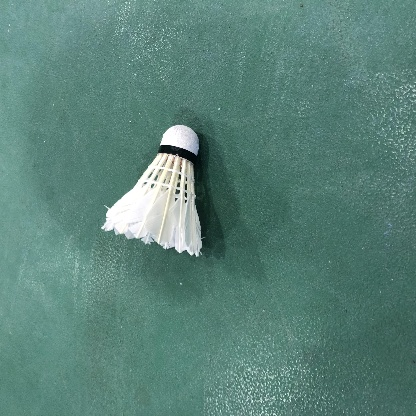ball_single: (100, 125, 202, 257)
